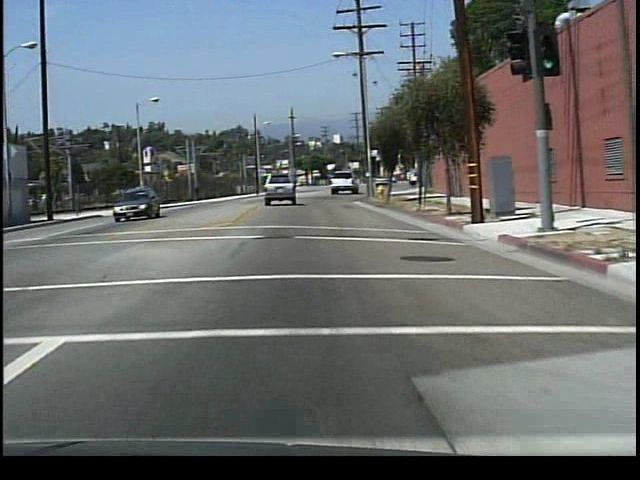person: (192, 181, 204, 203)
